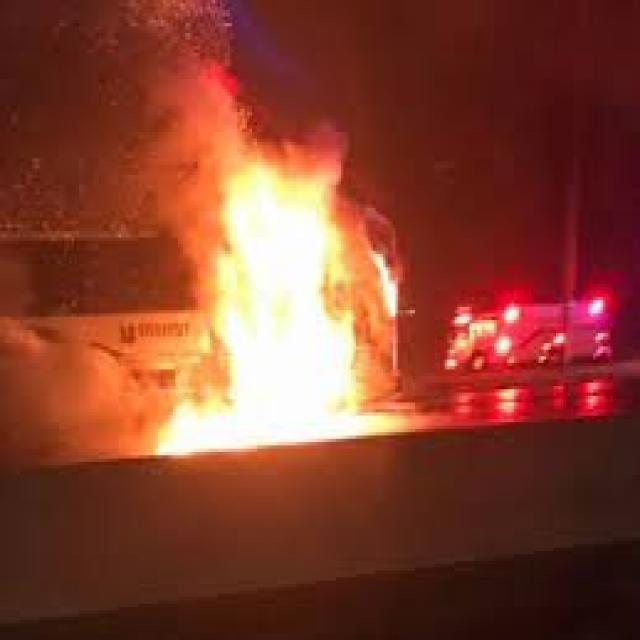Fire: (140, 160, 410, 453)
Smoke: (0, 0, 138, 458)
